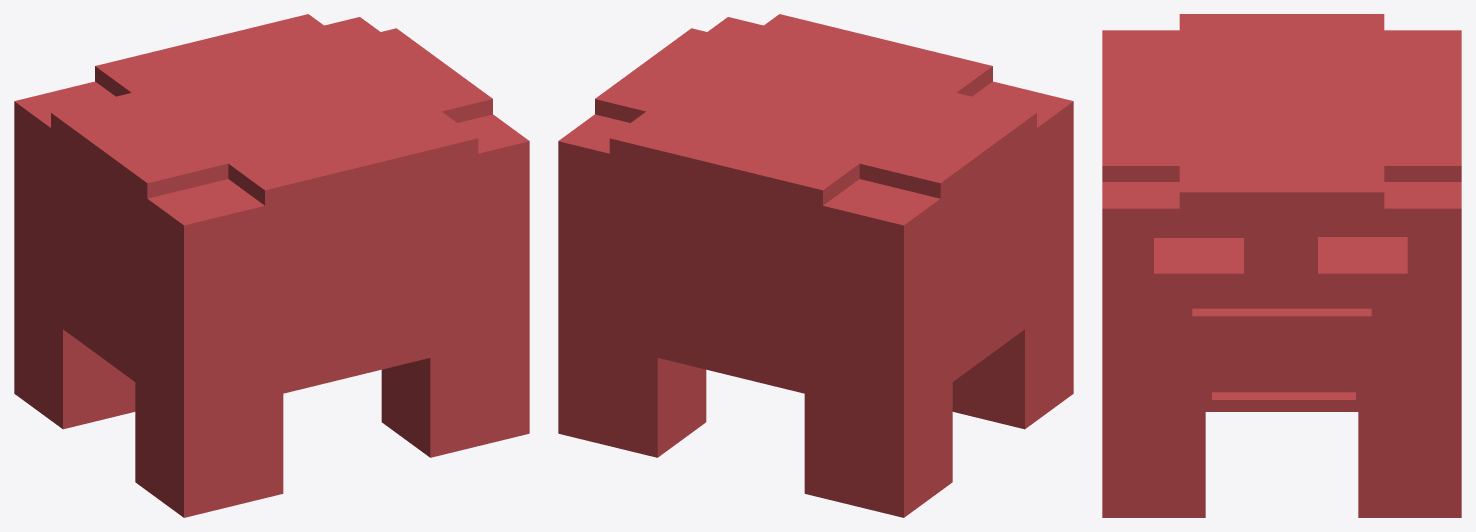
Rendered from Kieran.glb.
The picture shows the model from 3 angles, left to right: view 1: azimuth 30°, elevation 25°; view 2: azimuth 150°, elevation 25°; view 3: azimuth 270°, elevation 25°; orthographic projection. The views are drawn at different scales.
Visible parts, largest first — view 1: Mesh_Mesh_head_geo.001_lambert2SG.001; view 2: Mesh_Mesh_head_geo.001_lambert2SG.001; view 3: Mesh_Mesh_head_geo.001_lambert2SG.001.
Part boxes in pixels (x1,y1,x2,y2): Mesh_Mesh_head_geo.001_lambert2SG.001: (14,14,529,517); Mesh_Mesh_head_geo.001_lambert2SG.001: (558,14,1073,517); Mesh_Mesh_head_geo.001_lambert2SG.001: (1102,14,1461,517).
Bounding box in the file's own units: 4.9 × 4 × 4.
